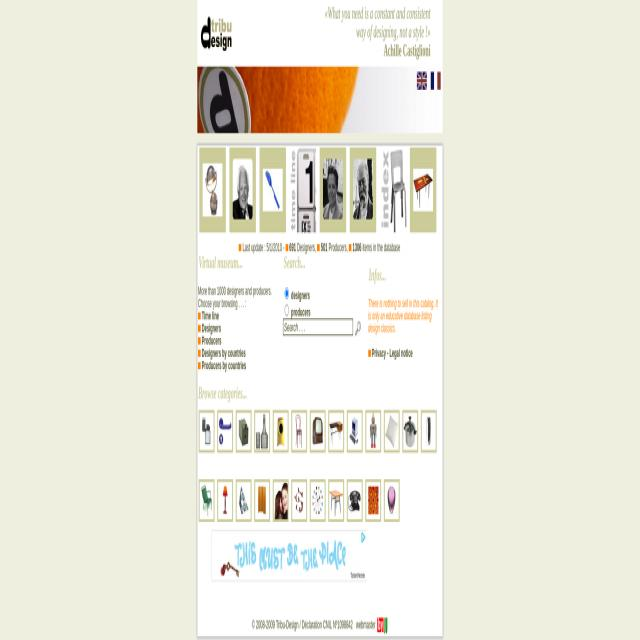button: (212, 529, 367, 579), (198, 0, 252, 67), (319, 148, 346, 234), (409, 148, 436, 233), (229, 147, 256, 231), (259, 148, 286, 232), (290, 147, 316, 233), (380, 147, 406, 233), (200, 147, 226, 232), (350, 148, 376, 232), (198, 410, 214, 453), (217, 410, 233, 453), (236, 410, 252, 453), (254, 410, 270, 453), (273, 410, 289, 453), (291, 410, 307, 453), (310, 410, 326, 453), (328, 410, 344, 453), (347, 410, 363, 453), (365, 410, 381, 453), (384, 410, 400, 453), (402, 410, 418, 453), (421, 410, 437, 453), (198, 479, 214, 522), (217, 479, 233, 522), (236, 479, 252, 522), (254, 479, 270, 522), (273, 479, 289, 522), (291, 479, 307, 522), (310, 479, 326, 522), (328, 479, 344, 522), (347, 479, 363, 522), (365, 479, 381, 522), (384, 479, 400, 522), (431, 70, 442, 90), (417, 72, 427, 89), (355, 320, 361, 336), (361, 531, 366, 544)
field: (283, 319, 353, 336), (285, 287, 289, 299), (285, 304, 289, 316)
